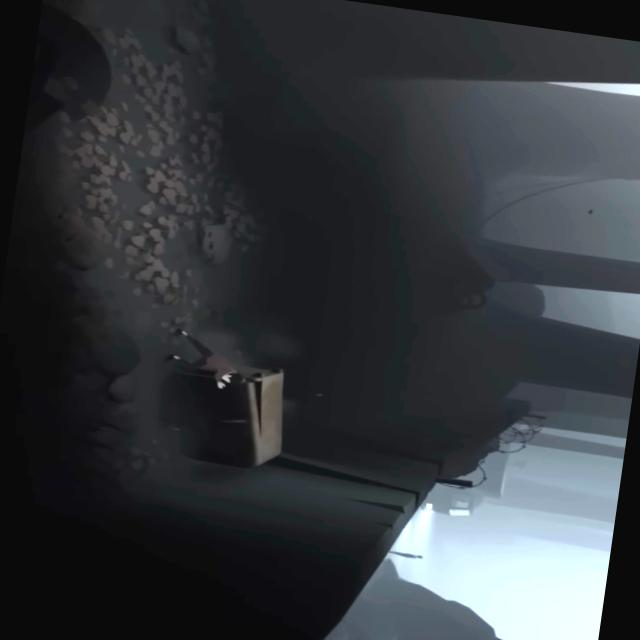boy: (164, 328, 266, 394)
